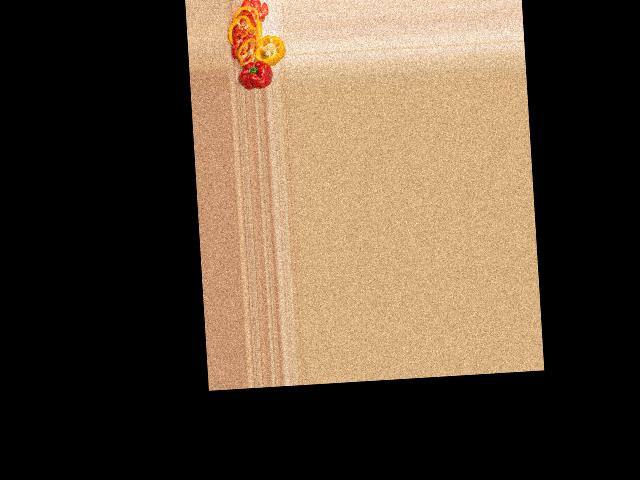bell_pepper: (254, 32, 287, 65)
